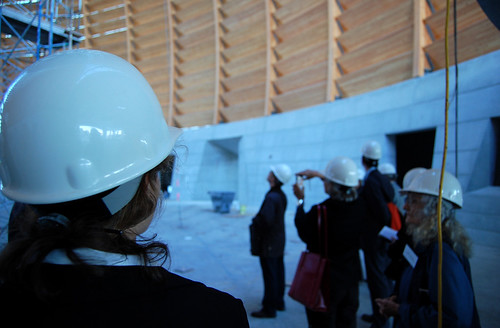person hardhat: (2, 46, 249, 328), (396, 166, 482, 328), (296, 146, 357, 328), (355, 141, 396, 324), (250, 162, 291, 322), (379, 161, 408, 250)
